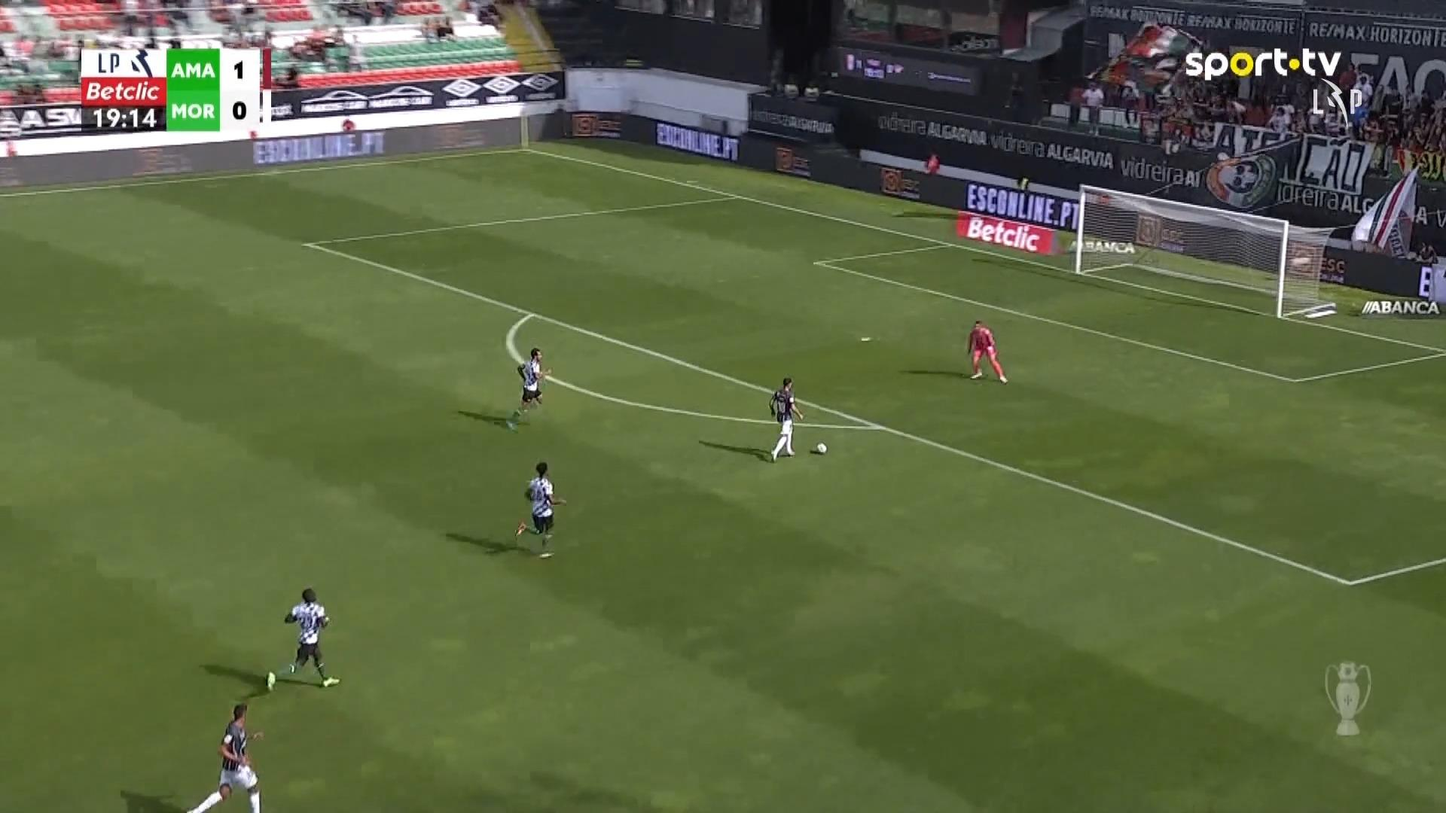ball: (815, 442, 826, 453)
goalkeeper: (965, 319, 1008, 383)
player: (185, 702, 264, 811), (265, 586, 340, 690), (514, 461, 566, 558), (505, 346, 551, 431), (767, 376, 804, 461)
